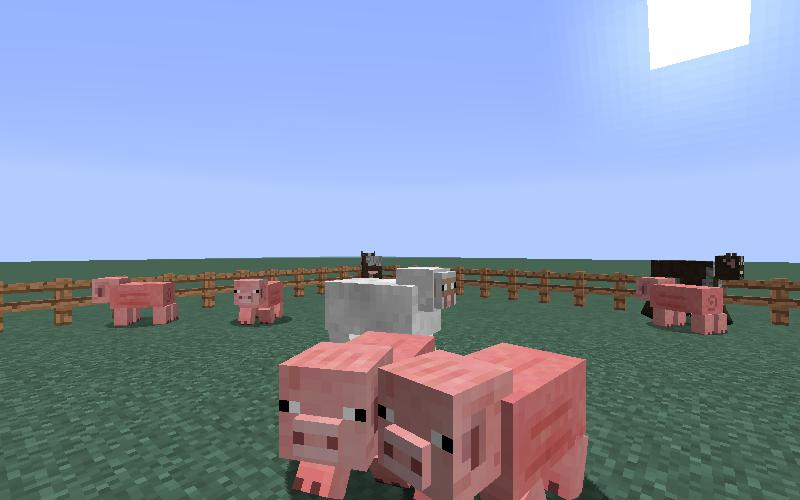pig: (374, 338, 591, 500), (277, 330, 392, 500), (632, 274, 731, 336), (89, 271, 179, 333), (231, 275, 283, 327)
sheep: (319, 261, 457, 342)
